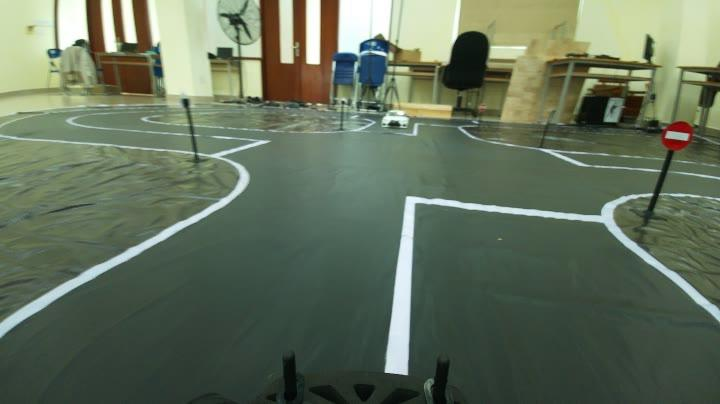no_entry: (654, 109, 700, 158)
